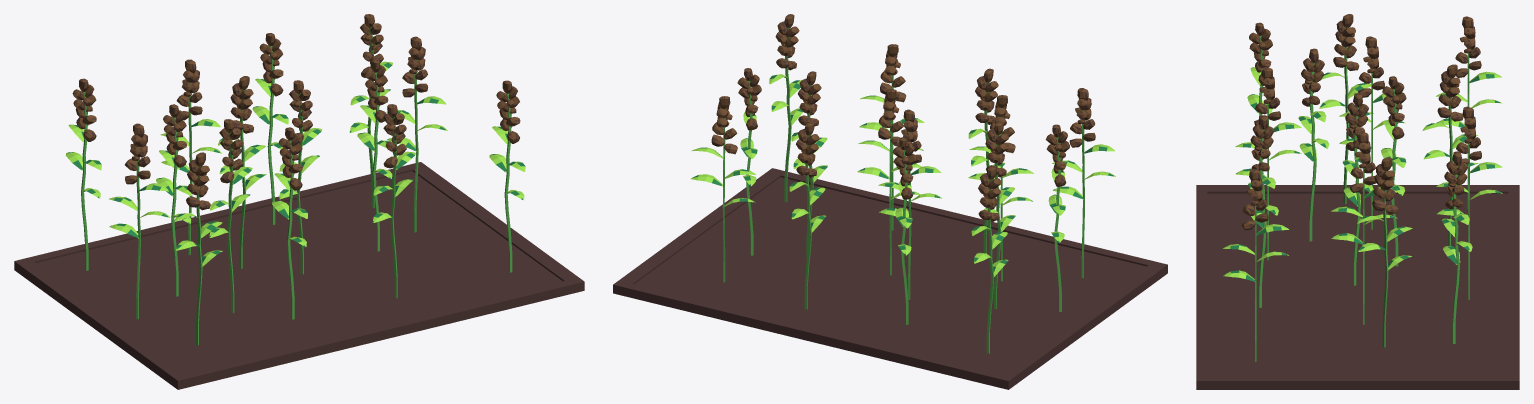
The model's file is sorgo conjunto.fbx.
The picture shows the model from 3 angles, left to right: view 1: azimuth 30°, elevation 25°; view 2: azimuth 150°, elevation 25°; view 3: azimuth 270°, elevation 25°; orthographic projection. The views are drawn at different scales.
Visible parts, largest first — view 1: Cube, Cube.002; view 2: Cube, Cube.002; view 3: Cube, Cube.002.
Part boxes in pixels (box(x1,y1,x2,y2)): Cube: box(14, 162, 584, 389); Cube.002: box(65, 14, 525, 345); Cube: box(613, 168, 1167, 389); Cube.002: box(691, 14, 1115, 353); Cube: box(1196, 185, 1519, 389); Cube.002: box(1223, 14, 1502, 361).
Bounding box in the file's own units: 1459 × 684 × 1018.
